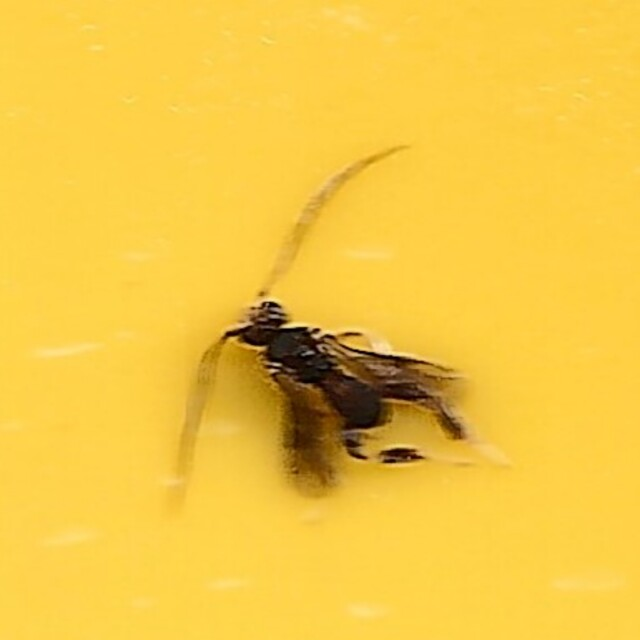Hymenoptera: (166, 140, 474, 500)
